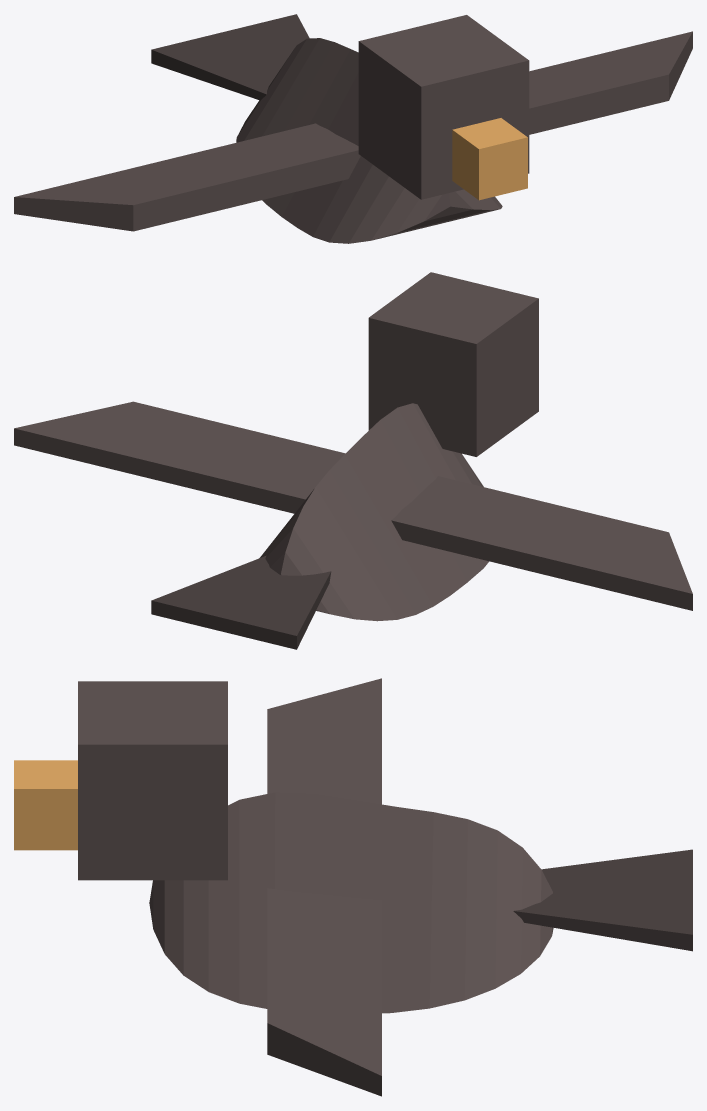
File: bird_1.glb
3 renders of one model, top to bottom at view 1: azimuth 30°, elevation 25°; view 2: azimuth 150°, elevation 25°; view 3: azimuth 270°, elevation 25°, orthographic. The views are drawn at different scales.
Parts seen in each view (by area): view 1: Bird_1.004; view 2: Bird_1.004; view 3: Bird_1.004.
Part boxes in pixels (bbox=[...]): Bird_1.004: bbox=[14, 14, 692, 243]; Bird_1.004: bbox=[14, 272, 692, 649]; Bird_1.004: bbox=[14, 678, 692, 1096].
Size of the model in its own units: 0.3222 by 0.0941 by 0.2323.
